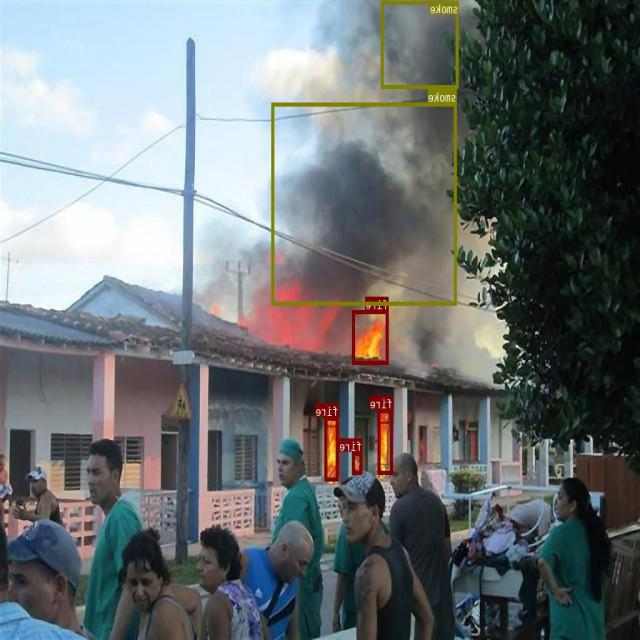fire: (353, 310, 389, 364), (379, 409, 393, 474), (326, 416, 339, 481), (353, 451, 363, 473)
smoke: (272, 102, 458, 304), (382, 0, 459, 88)
